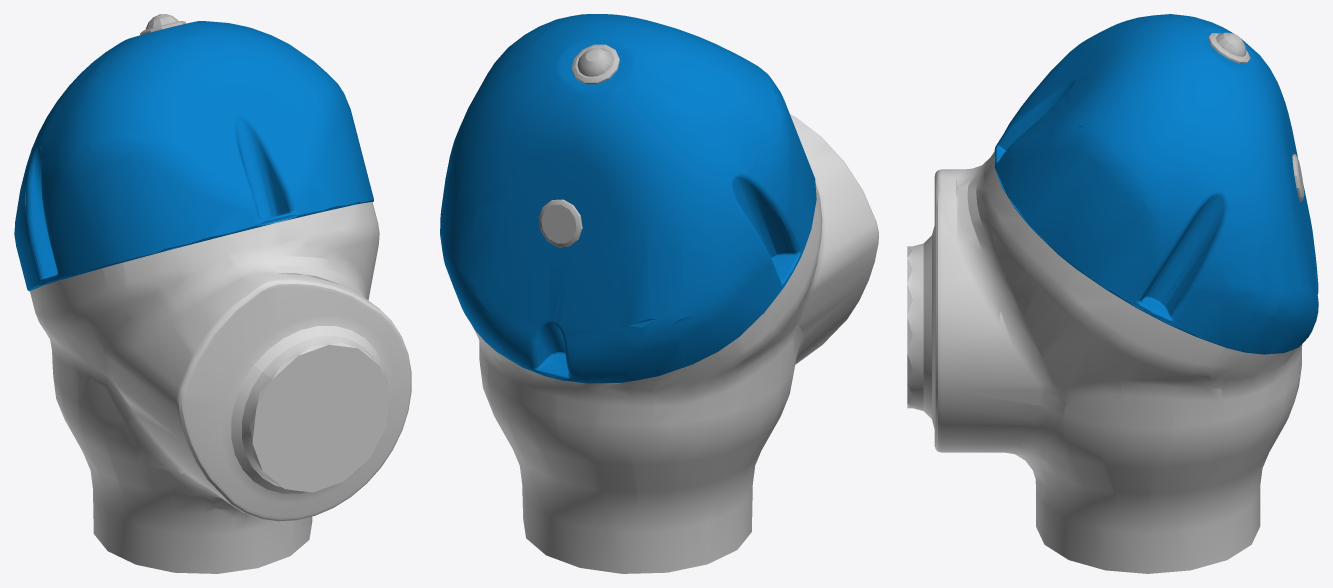
The picture shows the model from 3 angles, left to right: view 1: azimuth 30°, elevation 25°; view 2: azimuth 150°, elevation 25°; view 3: azimuth 270°, elevation 25°; orthographic projection. The views are drawn at different scales.
Visible parts, largest first — view 1: Link 5 B; view 2: Link 5 B; view 3: Link 5 B.
Boxes of the visible parts, <box> form: Link 5 B: <box>14,14,411,573</box>; Link 5 B: <box>440,14,878,573</box>; Link 5 B: <box>907,14,1318,573</box>.
Size of the model in its own units: 0.162 by 0.1871 by 0.2478.
